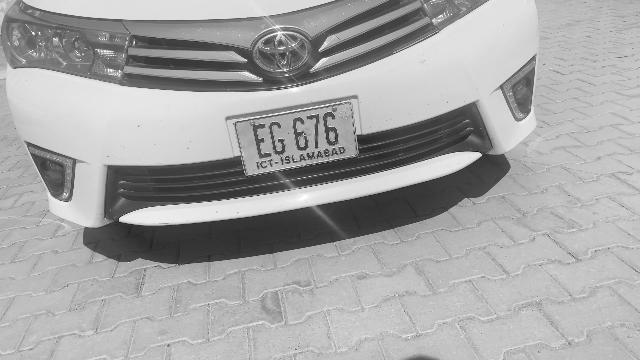Number: (248, 110, 344, 162)
